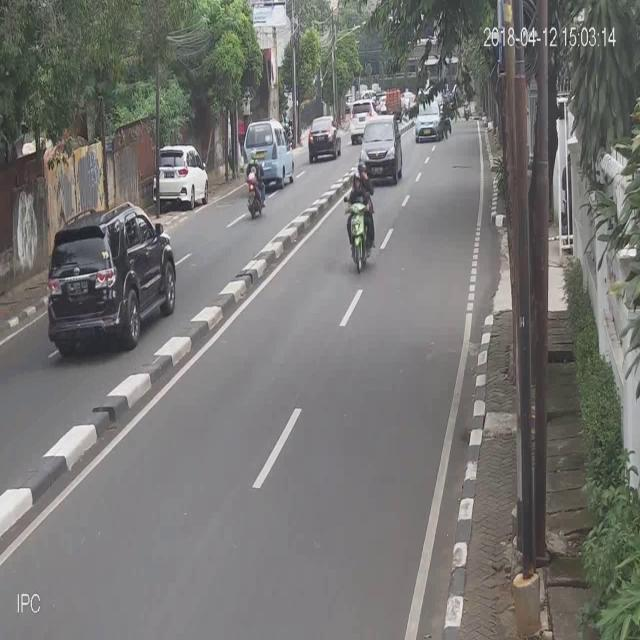bus: (343, 162, 375, 274), (244, 148, 266, 220)
motorcycle: (46, 200, 176, 357), (151, 140, 209, 216), (245, 120, 295, 187), (361, 113, 404, 185), (308, 114, 342, 162)
